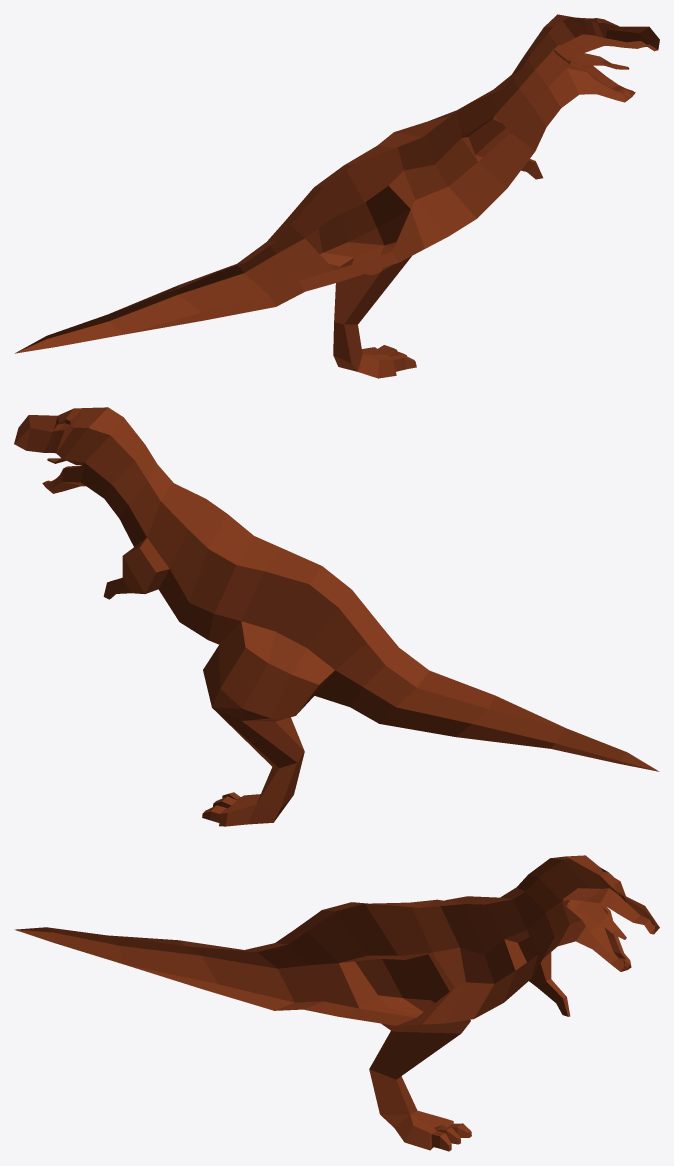
The model's file is trex.glb.
3 views of the same model, one above another, from view 1: azimuth 30°, elevation 25°; view 2: azimuth 150°, elevation 25°; view 3: azimuth 330°, elevation 25° (orthographic). The views are drawn at different scales.
Visible parts, largest first — view 1: Plane; view 2: Plane; view 3: Plane.
Boxes of the visible parts, left/top/right/bottom form: Plane: left=15, top=14, right=659, bottom=378; Plane: left=14, top=407, right=659, bottom=826; Plane: left=14, top=855, right=659, bottom=1151.
Bounding box in the file's own units: 65.71 × 33.46 × 8.52.
